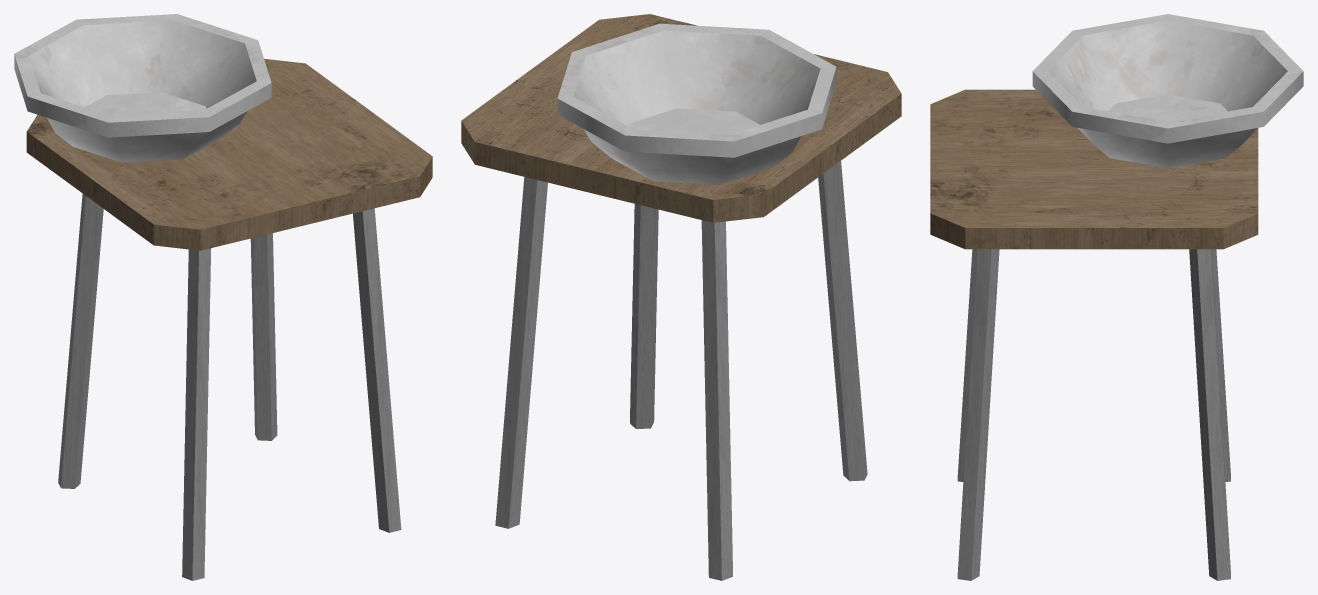
File: Stool.fbx
The picture shows the model from 3 angles, left to right: view 1: azimuth 30°, elevation 25°; view 2: azimuth 150°, elevation 25°; view 3: azimuth 270°, elevation 25°; orthographic projection. The views are drawn at different scales.
Visible parts, largest first — view 1: Stool_low, Stool_low.002, Stool_low.001; view 2: Stool_low.002, Stool_low.001, Stool_low; view 3: Stool_low, Stool_low.002, Stool_low.001.
Boxes of the visible parts, left/top/right/bottom form: Stool_low: left=26, top=58, right=432, bottom=250; Stool_low.002: left=14, top=14, right=271, bottom=162; Stool_low.001: left=58, top=194, right=401, bottom=580; Stool_low.002: left=557, top=23, right=836, bottom=184; Stool_low.001: left=495, top=161, right=867, bottom=580; Stool_low: left=461, top=14, right=901, bottom=222; Stool_low: left=930, top=89, right=1258, bottom=249; Stool_low.002: left=1032, top=14, right=1303, bottom=168; Stool_low.001: left=957, top=249, right=1230, bottom=580.
Bounding box in the file's own units: 34.13 × 45.25 × 35.5.
Materials: 1 (1 with a texture image).
